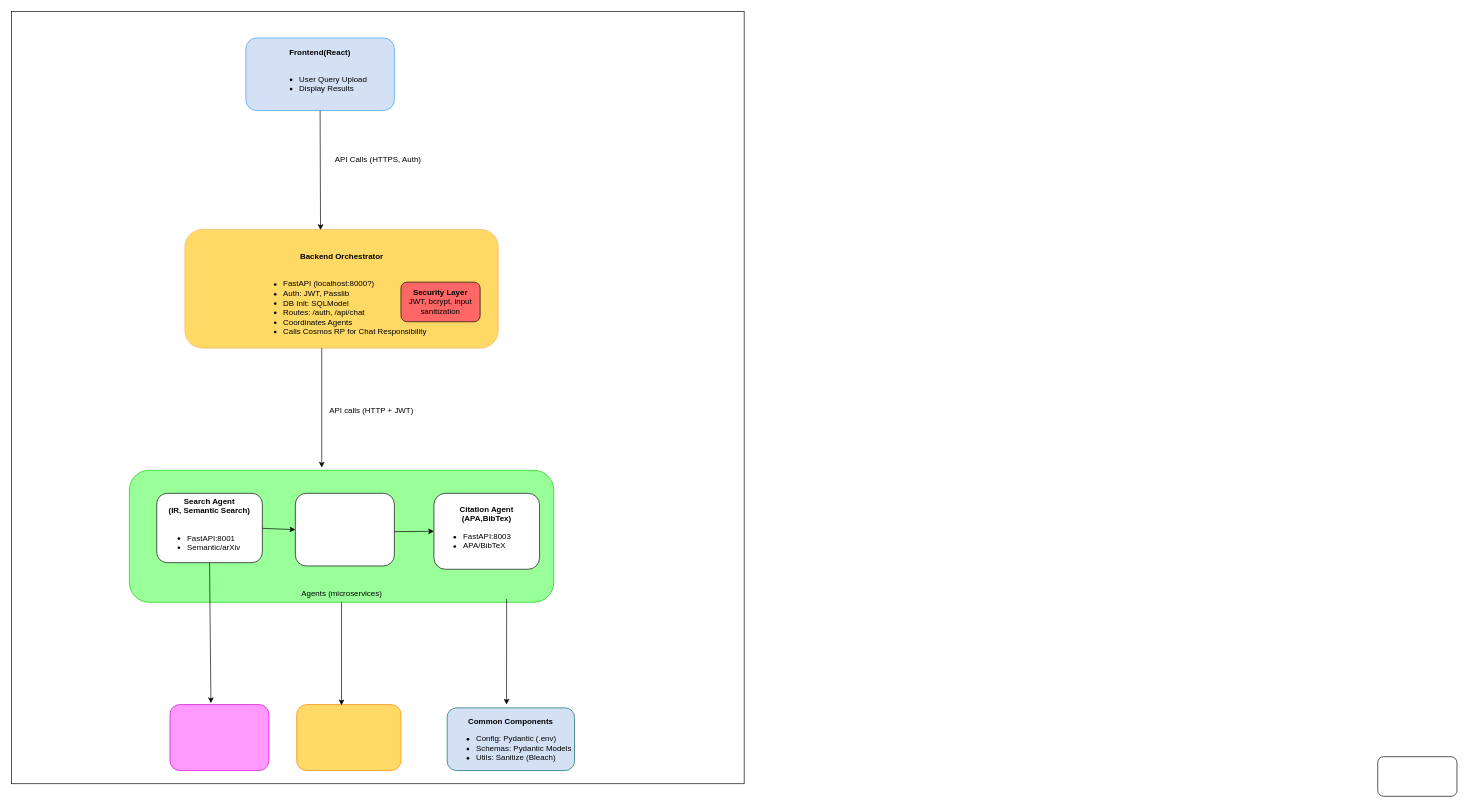
This 1469x808 diagram has some shape labels left out. The shapes that lost their labels are listed below. From the top down, each one's centre as x and y in pixels, then its label:
At point 344,529: "Summarizer Agent (LLM / NLP) FastAPI:8002 BART Model".
At point 219,737: "External IR Sources Semantic Scholar arXiv API Cosmos RP LLM".
At point 348,737: "Database(SQLite) Engine: SQLModel".
